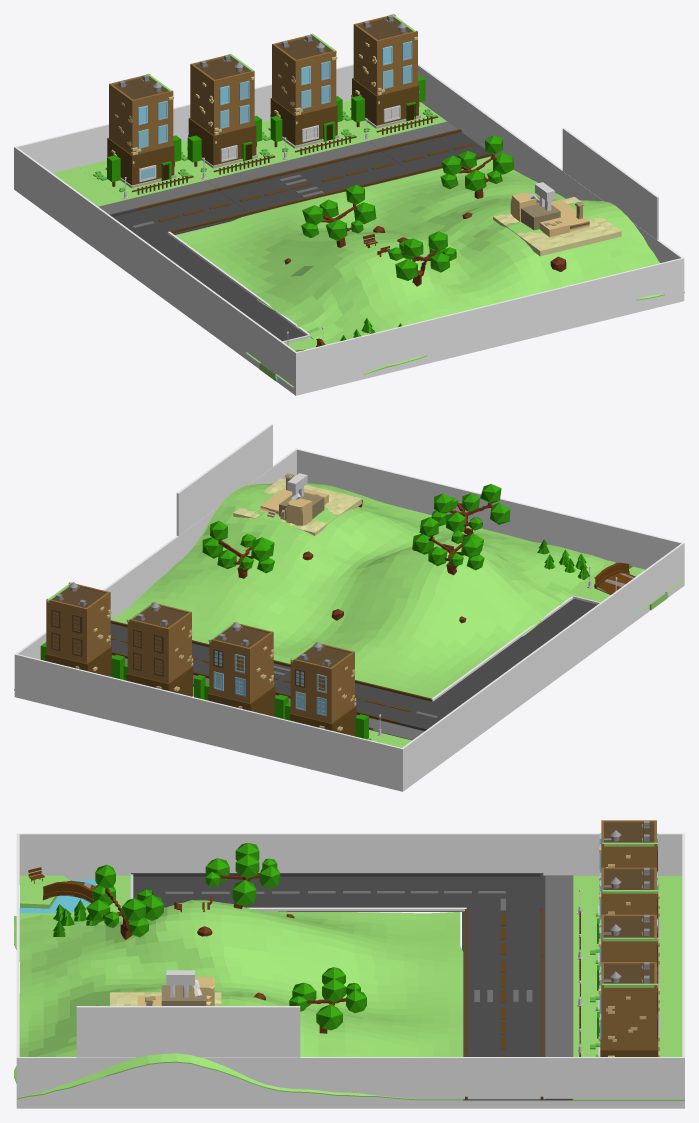
The model's file is city.glb.
The picture shows the model from 3 angles, top to bottom: view 1: azimuth 30°, elevation 25°; view 2: azimuth 150°, elevation 25°; view 3: azimuth 270°, elevation 25°; orthographic projection. The views are drawn at different scales.
Parts seen in each view (by area): view 1: Cube.449; view 2: Cube.449; view 3: Cube.449.
Boxes of the visible parts, box(x1,y1,x2,y2) form: Cube.449: box(14, 14, 684, 395); Cube.449: box(14, 424, 684, 791); Cube.449: box(14, 820, 684, 1108).
Size of the model in its own units: 196 by 47.63 by 241.
